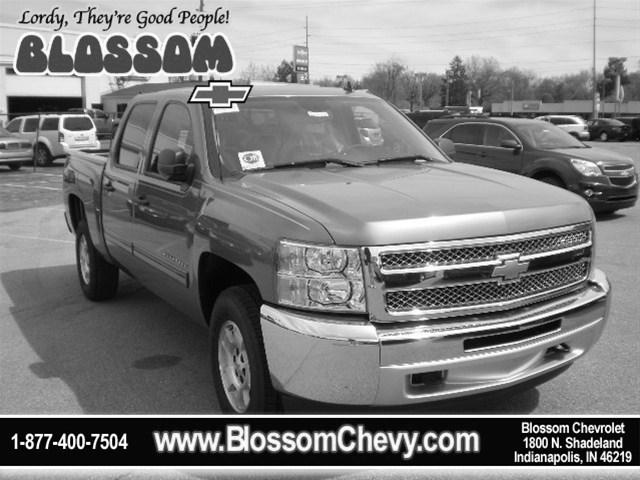car: (59, 85, 615, 411)
